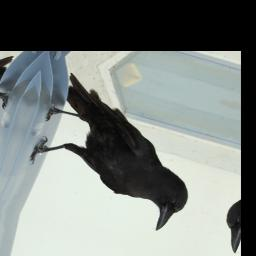Crow: (16, 69, 217, 238)
